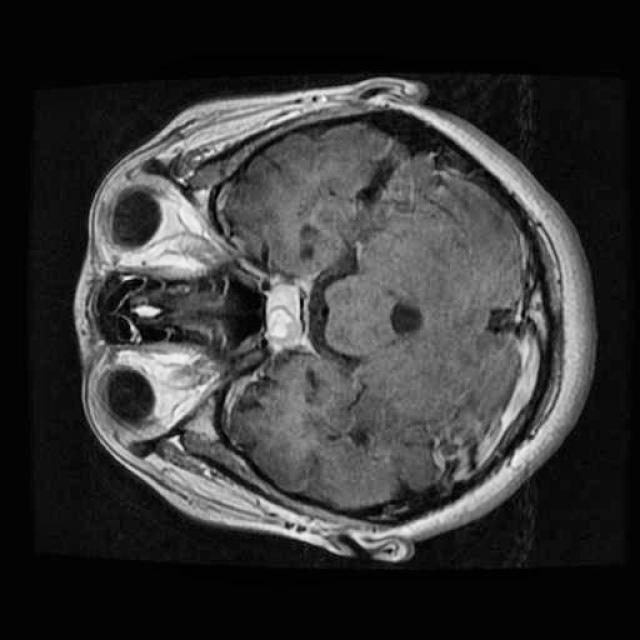Tumor: (255, 259, 316, 369)
